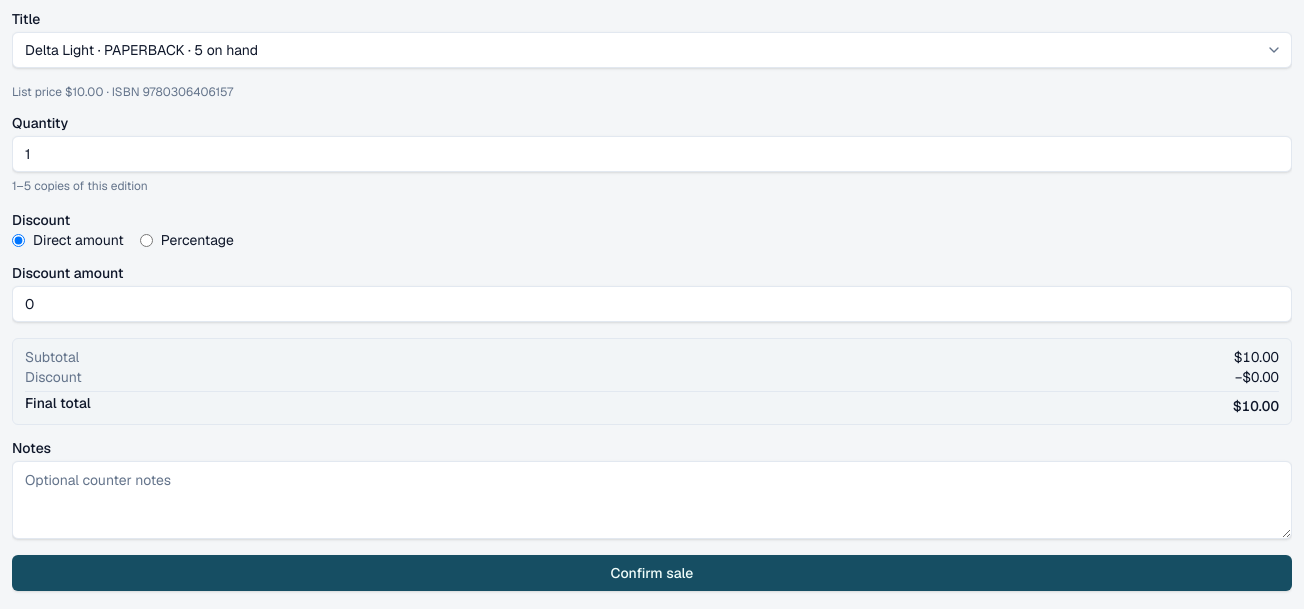
Test: TitleSaleForm › switches to percentage discount
Click the radio button labelled "Percentage": {"x": 146, "y": 240} top-left (140, 234), bottom-right (153, 246)
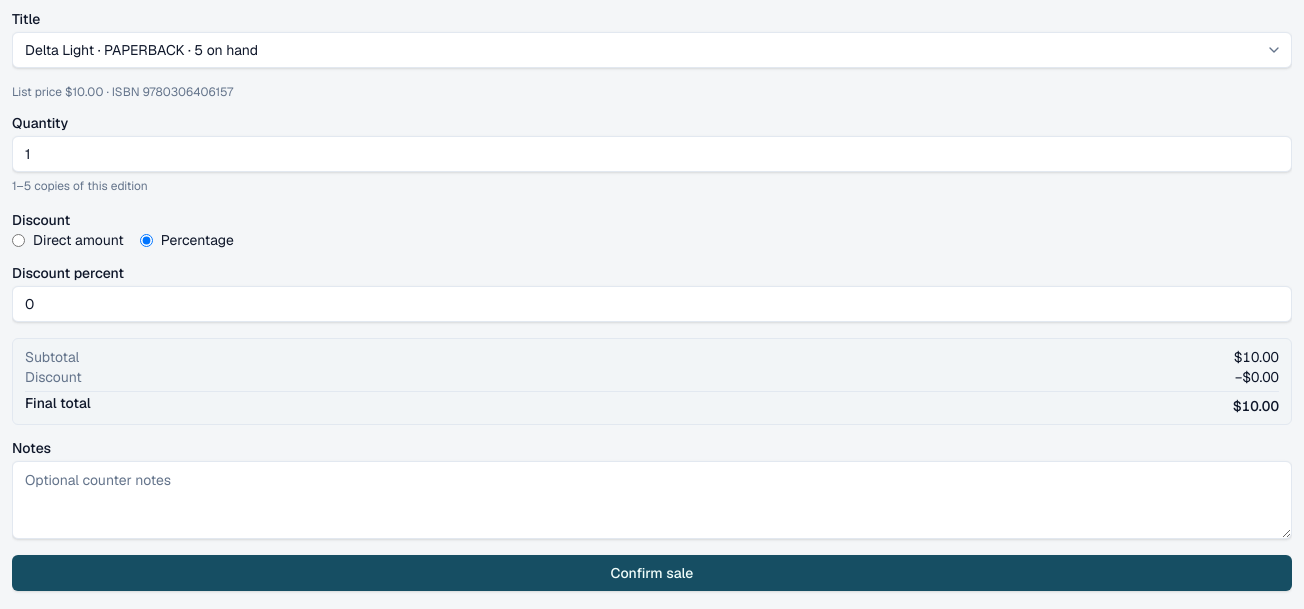
Replace the text in the number field labelled "Discount percent" with "10": {"x": 652, "y": 304} top-left (12, 286), bottom-right (1292, 322)
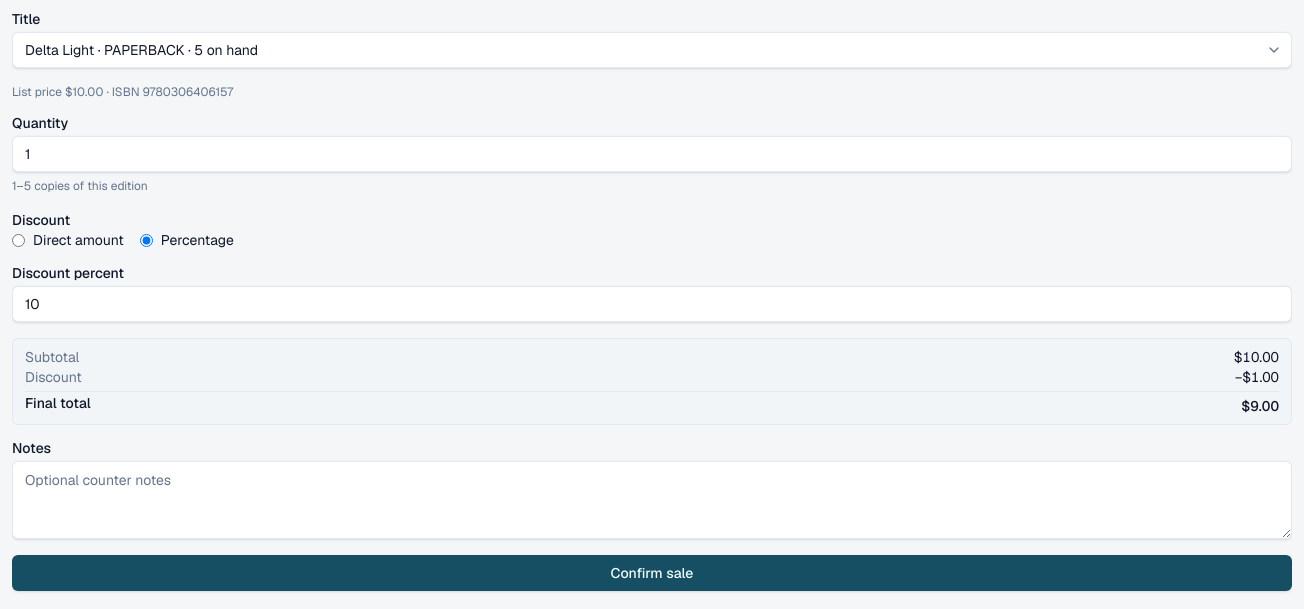
Expected: the text "$10.00" is shown, top-left (1234, 347), bottom-right (1279, 367)
Result: the text "−$1.00" is shown at top-left (1235, 367), bottom-right (1279, 387)
Result: the text "$9.00" is shown at top-left (1241, 396), bottom-right (1279, 416)
